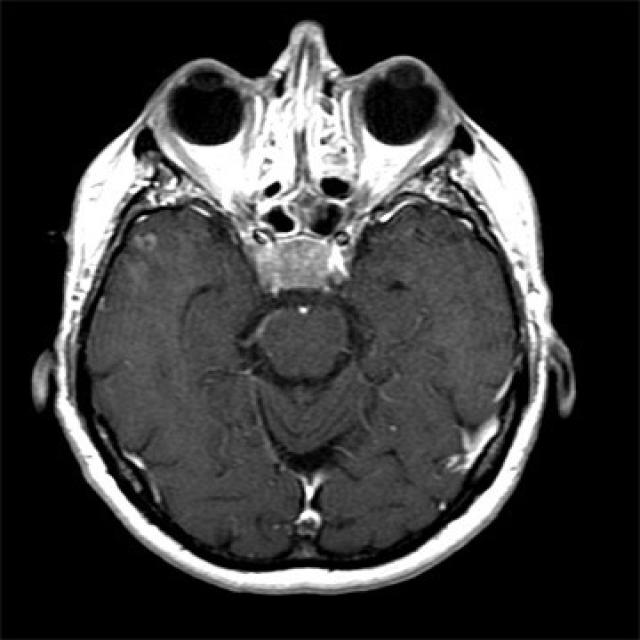brain_tumor: (256, 305, 347, 386)
